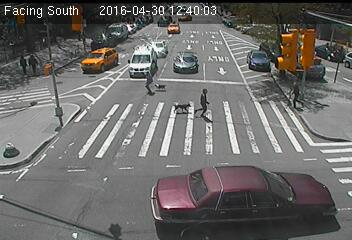neg: (265, 134, 292, 171), (37, 4, 58, 32), (79, 5, 96, 28), (216, 163, 232, 184), (165, 7, 180, 28), (121, 17, 136, 38), (7, 4, 22, 24), (116, 136, 120, 142)
pos: (11, 51, 36, 84), (138, 63, 162, 95), (281, 81, 304, 112), (22, 51, 41, 76)
